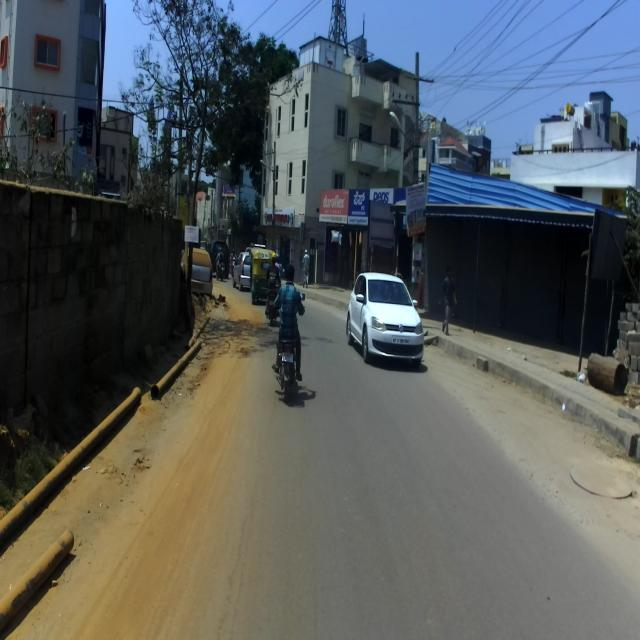car ahead at: (346, 269, 431, 376)
motorcycle ahead at: (267, 325, 312, 403)
tree ahead at: (183, 107, 223, 306)
